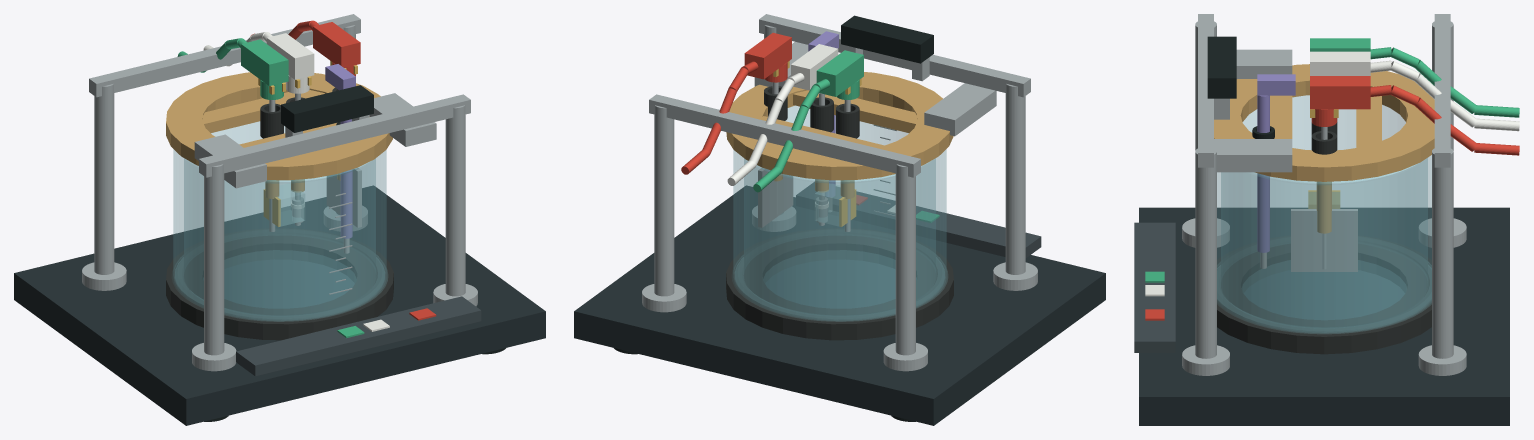
Rendered from cell-fixture.glb.
The picture shows the model from 3 angles, left to right: view 1: azimuth 30°, elevation 25°; view 2: azimuth 150°, elevation 25°; view 3: azimuth 270°, elevation 25°; orthographic projection. The views are drawn at different scales.
Visible parts, largest first — view 1: Bench_base, Glass_vessel_shell, Vessel_seat, Lid_outer_ring, Port_legend_panel, Glass_vessel_floor, Front_slide_rail, Rail_pillar_47_37, Rail_pillar_-47_37, Rail_pillar_-47_-37, Rear_slide_rail, Handle_lift (+15 smaller); view 2: Bench_base, Glass_vessel_shell, Vessel_seat, Lid_outer_ring, Glass_vessel_floor, Rear_slide_rail, Port_legend_panel, Rail_pillar_47_-37, Rail_pillar_-47_-37, Rail_pillar_-47_37, Front_slide_rail, Handle_lift (+15 smaller); view 3: Bench_base, Glass_vessel_shell, Vessel_seat, Lid_outer_ring, Glass_vessel_floor, Port_legend_panel, Rail_pillar_47_-37, Rail_pillar_47_37, Counter_terminal_plate, Moveable_bridge_tab_33, Rear_slide_rail, Front_slide_rail (+23 smaller).
Part boxes in pixels (x1,y1,x2,y2): Bench_base: [14, 185, 545, 425]; Glass_vessel_shell: [173, 121, 386, 320]; Vessel_seat: [166, 228, 393, 340]; Lid_outer_ring: [166, 72, 392, 180]; Port_legend_panel: [236, 296, 481, 376]; Glass_vessel_floor: [175, 250, 384, 308]; Front_slide_rail: [199, 94, 470, 177]; Rail_pillar_47_37: [445, 105, 465, 296]; Rail_pillar_-47_37: [204, 164, 224, 355]; Rail_pillar_-47_-37: [94, 84, 114, 274]; Rear_slide_rail: [89, 14, 360, 97]; Handle_lift: [281, 85, 373, 132]; Bench_base: [574, 185, 1105, 425]; Glass_vessel_shell: [733, 105, 946, 320]; Vessel_seat: [726, 228, 953, 340]; Lid_outer_ring: [726, 72, 953, 180]; Glass_vessel_floor: [735, 250, 944, 308]; Rear_slide_rail: [649, 94, 920, 177]; Port_legend_panel: [796, 182, 1041, 257]; Rail_pillar_47_-37: [654, 105, 674, 296]; Rail_pillar_-47_-37: [895, 164, 915, 355]; Rail_pillar_-47_37: [1005, 84, 1025, 274]; Front_slide_rail: [759, 14, 1030, 97]; Handle_lift: [841, 15, 933, 63]; Bench_base: [1139, 207, 1509, 425]; Glass_vessel_shell: [1217, 95, 1431, 332]; Vessel_seat: [1217, 235, 1431, 354]; Lid_outer_ring: [1214, 64, 1434, 181]; Glass_vessel_floor: [1217, 260, 1431, 320]; Port_legend_panel: [1134, 222, 1175, 352]; Rail_pillar_47_-37: [1432, 148, 1453, 358]; Rail_pillar_47_37: [1195, 148, 1216, 358]; Counter_terminal_plate: [1291, 209, 1357, 271]; Moveable_bridge_tab_33: [1214, 139, 1292, 172]; Rear_slide_rail: [1434, 14, 1450, 167]; Front_slide_rail: [1198, 14, 1213, 167].
Bounding box in the file's own units: 0.14 × 0.102 × 0.1206.
